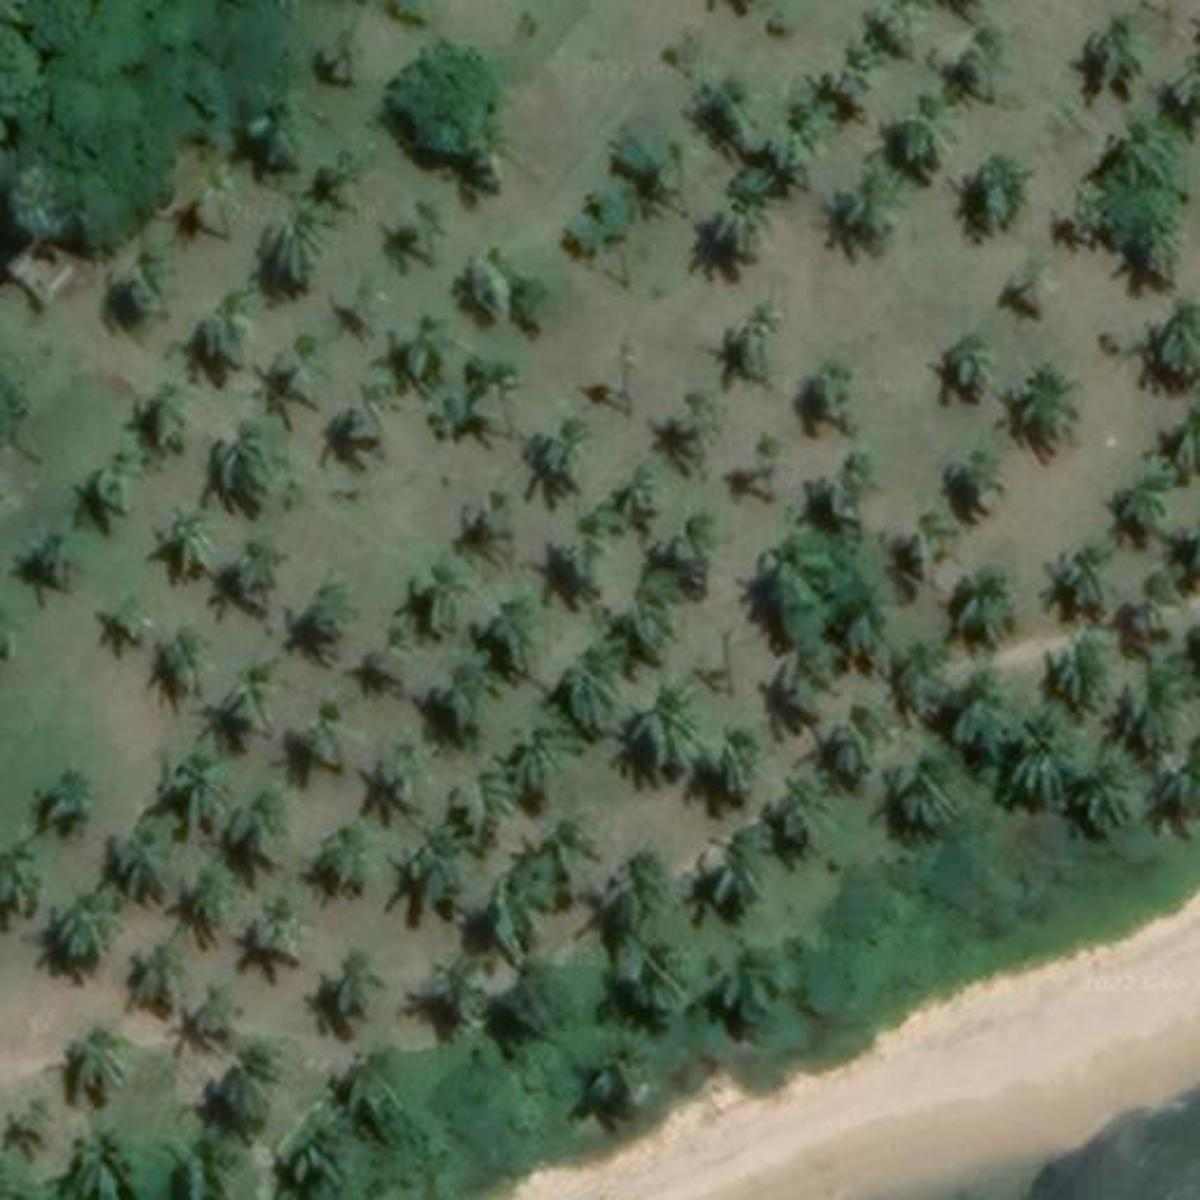coconut: (567, 1016, 660, 1101), (1010, 700, 1085, 805), (416, 956, 499, 1052), (946, 560, 1033, 649), (621, 684, 721, 759), (1062, 747, 1153, 827), (203, 1042, 290, 1125), (269, 1101, 356, 1184), (1003, 360, 1082, 451), (412, 670, 516, 738), (881, 89, 965, 173), (164, 749, 248, 832), (391, 549, 478, 627), (759, 532, 841, 614), (607, 853, 684, 938), (466, 585, 534, 679), (604, 588, 696, 658), (689, 724, 775, 799), (618, 944, 705, 1016), (560, 644, 632, 733), (1040, 632, 1125, 705), (485, 884, 562, 965), (938, 667, 1014, 749), (98, 829, 189, 897), (684, 827, 778, 892), (145, 1129, 241, 1192), (759, 103, 846, 173), (42, 885, 121, 960), (656, 501, 731, 581), (63, 1026, 140, 1103), (719, 946, 805, 1014), (888, 759, 973, 829), (208, 536, 278, 618), (213, 416, 276, 508), (241, 98, 316, 173), (836, 578, 914, 651), (166, 986, 251, 1052), (975, 152, 1042, 234), (238, 900, 316, 970), (1127, 665, 1192, 749), (1108, 478, 1181, 549), (520, 419, 597, 487), (325, 1045, 405, 1108), (216, 660, 288, 731), (1108, 116, 1184, 182), (1148, 731, 1197, 834), (410, 822, 473, 900), (714, 189, 782, 260), (944, 338, 1003, 416), (496, 740, 578, 796), (332, 946, 393, 1021), (382, 740, 457, 801), (311, 693, 363, 782), (201, 300, 264, 373), (307, 825, 382, 885), (1047, 560, 1127, 616), (116, 255, 185, 321), (307, 145, 373, 213), (199, 862, 267, 927), (836, 185, 895, 260), (878, 651, 949, 712), (35, 764, 105, 825), (260, 216, 325, 281), (127, 944, 189, 1012), (457, 771, 522, 834), (541, 822, 604, 885), (616, 468, 670, 541), (164, 637, 227, 698), (82, 1129, 147, 1188), (949, 457, 1016, 513), (126, 386, 187, 447), (307, 581, 363, 646), (1085, 30, 1143, 91), (159, 505, 210, 576), (773, 787, 846, 834), (27, 538, 91, 592), (820, 726, 885, 778), (1148, 300, 1195, 373), (84, 459, 145, 513), (0, 843, 49, 909), (105, 597, 157, 658), (407, 321, 459, 377), (232, 778, 284, 834), (330, 285, 382, 335), (7, 1099, 53, 1146), (475, 133, 520, 178), (412, 203, 454, 243)
